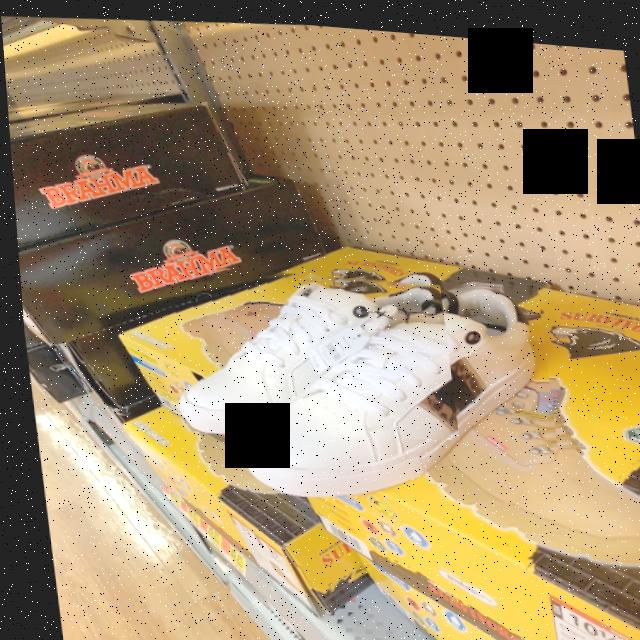shoe: (236, 277, 537, 492), (172, 273, 437, 430)
